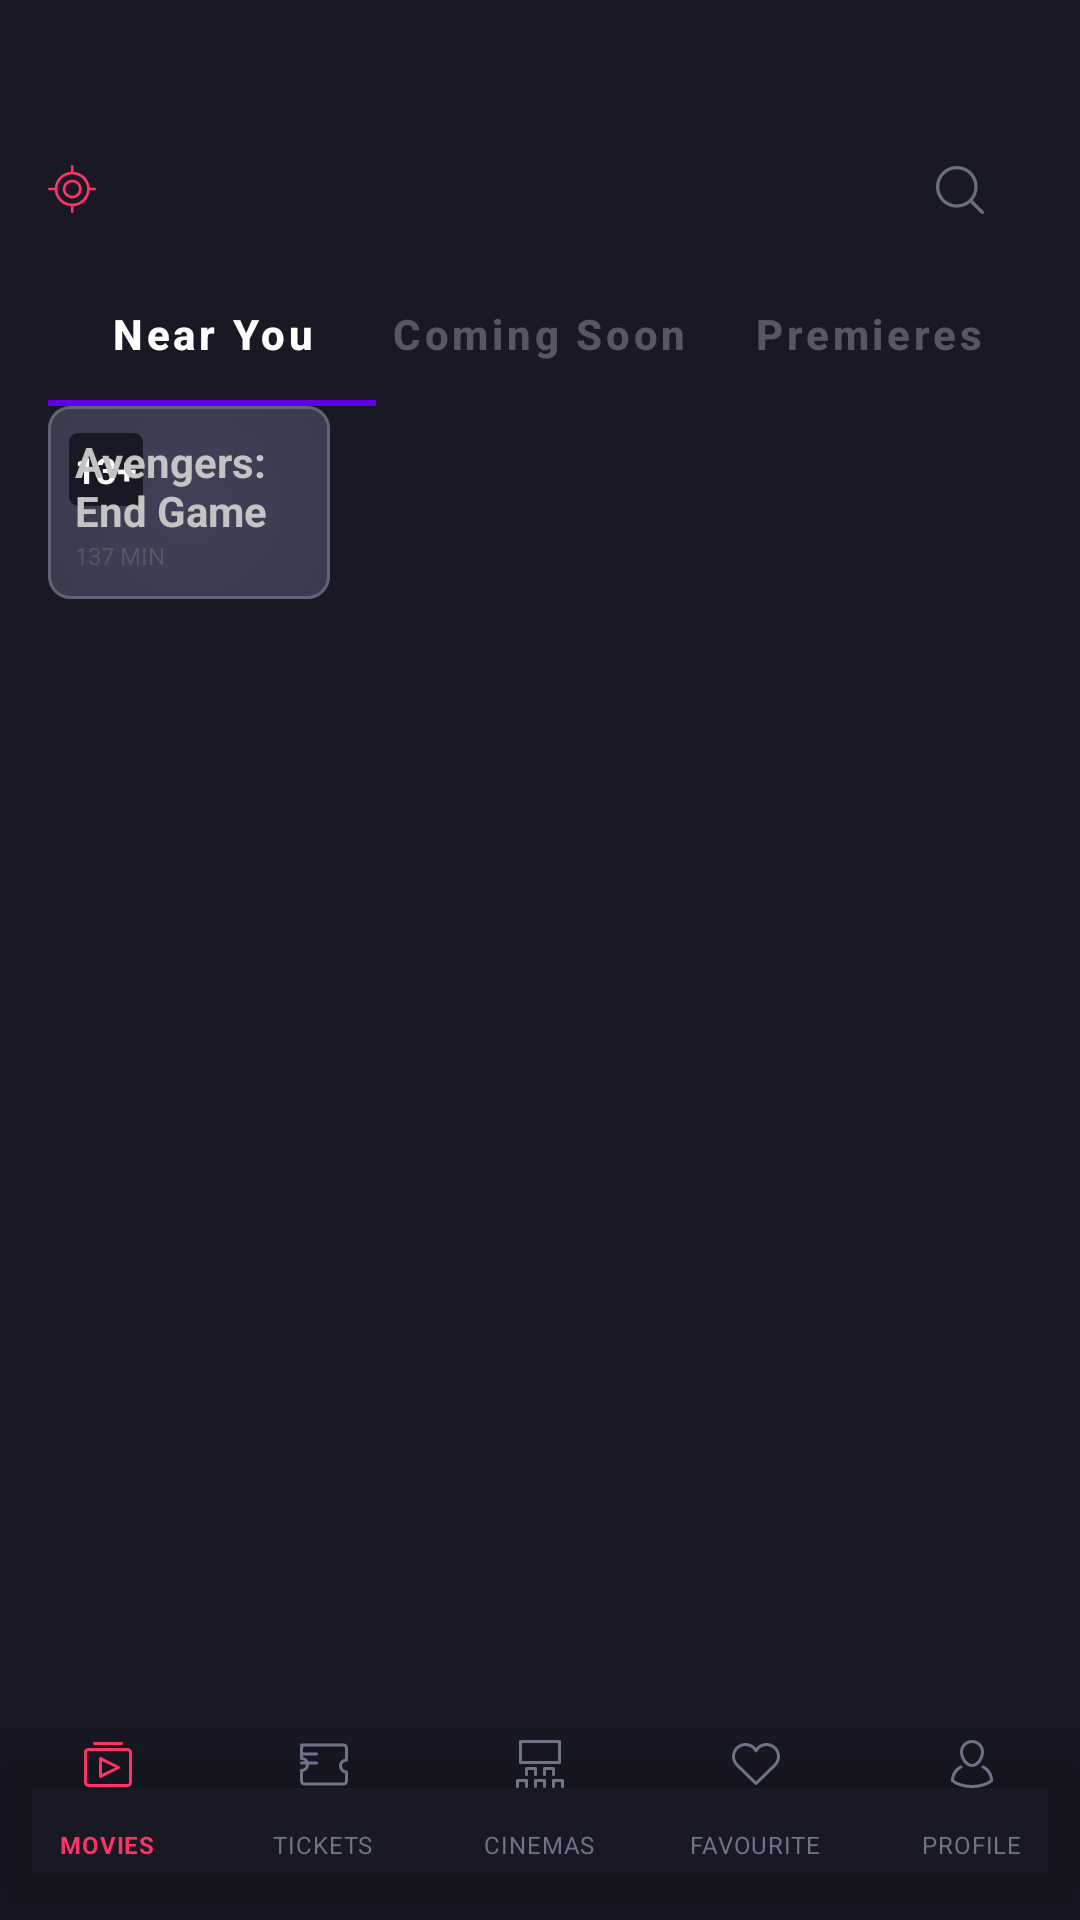

Point at icon controls on the screen. Image size 1080px x 1920px, points as point (x, y).
location: point (72, 189)
search: point (960, 190)
